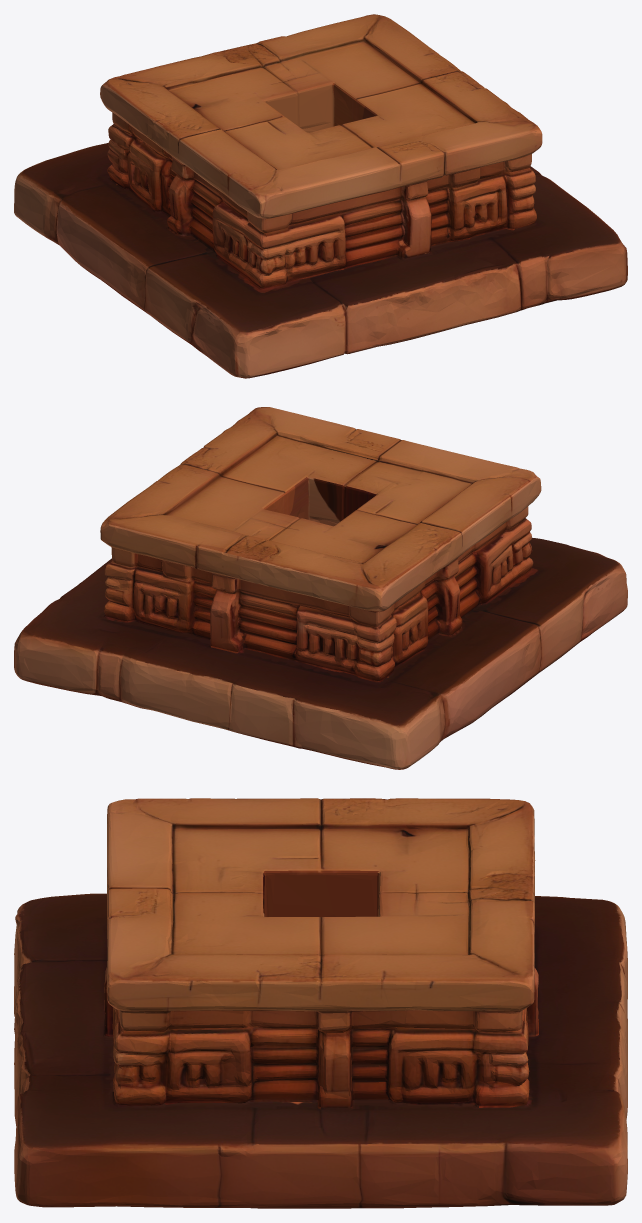
Rendered from nandi-bull-shrine-plinth-optimized.glb.
The picture shows the model from 3 angles, top to bottom: view 1: azimuth 30°, elevation 25°; view 2: azimuth 150°, elevation 25°; view 3: azimuth 270°, elevation 25°; orthographic projection. The views are drawn at different scales.
Visible parts, largest first — view 1: e12bc0bb-3bd6-48d2-af3b-e8d97d8b56b6_texturing.obj; view 2: e12bc0bb-3bd6-48d2-af3b-e8d97d8b56b6_texturing.obj; view 3: e12bc0bb-3bd6-48d2-af3b-e8d97d8b56b6_texturing.obj.
Part boxes in pixels (x1,y1,x2,y2): e12bc0bb-3bd6-48d2-af3b-e8d97d8b56b6_texturing.obj: (14, 14, 627, 378); e12bc0bb-3bd6-48d2-af3b-e8d97d8b56b6_texturing.obj: (14, 407, 627, 769); e12bc0bb-3bd6-48d2-af3b-e8d97d8b56b6_texturing.obj: (14, 798, 627, 1208).
Bounding box in the file's own units: 2.48 × 0.8849 × 2.5.
1 material, 1 textured.
